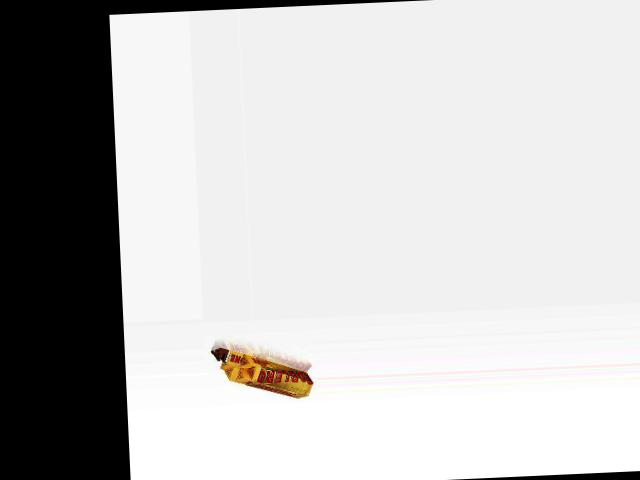chocolate: (210, 339, 313, 403)
